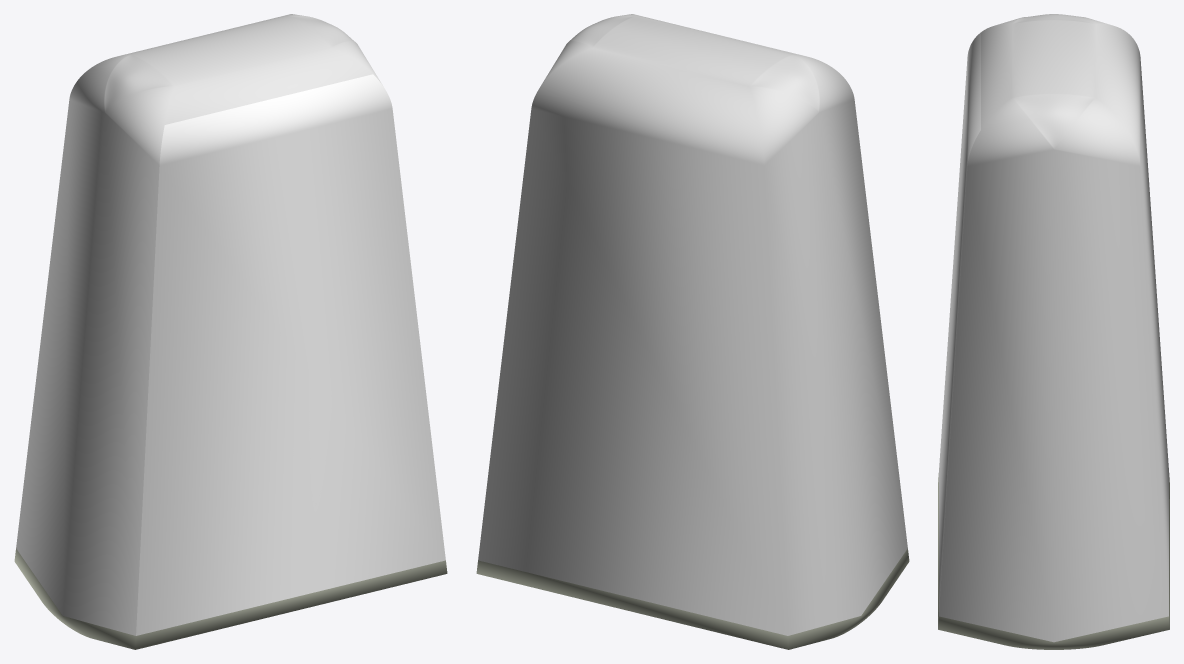
File: campana-v1-abierta.glb
3 renders of one model, left to right at view 1: azimuth 30°, elevation 25°; view 2: azimuth 150°, elevation 25°; view 3: azimuth 270°, elevation 25°, orthographic. The views are drawn at different scales.
Parts seen in each view (by area): view 1: campana v2.001; view 2: campana v2.001; view 3: campana v2.001.
Boxes of the visible parts, x1,y1,x2,y2 form: campana v2.001: (14,14,447,649); campana v2.001: (476,14,909,649); campana v2.001: (938,14,1169,649).
Size of the model in its own units: 0.1226 by 0.1871 by 0.0763.
Materials: 3 (1 with a texture image).
